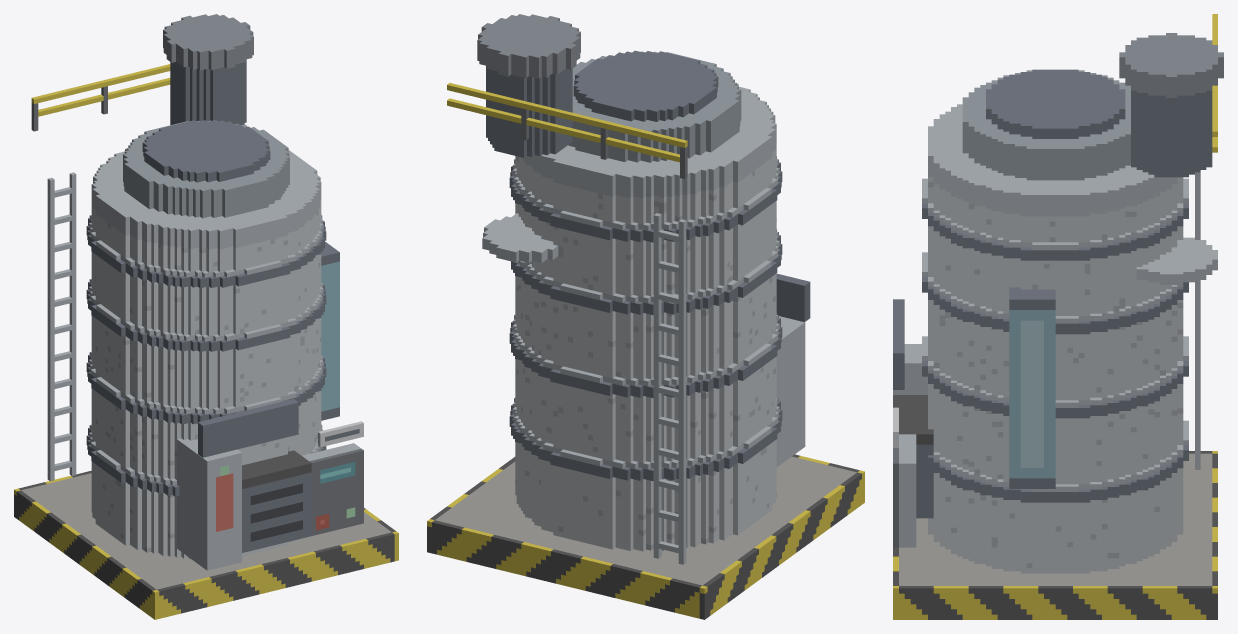
Rendered from boiler.glb.
3 renders of one model, left to right at view 1: azimuth 30°, elevation 25°; view 2: azimuth 150°, elevation 25°; view 3: azimuth 270°, elevation 25°, orthographic. The views are drawn at different scales.
Visible parts, largest first — view 1: boiler; view 2: boiler; view 3: boiler.
Part boxes in pixels (left/top/right/bottom): boiler: left=14, top=14, right=398, bottom=619; boiler: left=427, top=14, right=864, bottom=619; boiler: left=893, top=14, right=1223, bottom=619.
Bounding box in the file's own units: 1.75 × 3.12 × 1.78.
